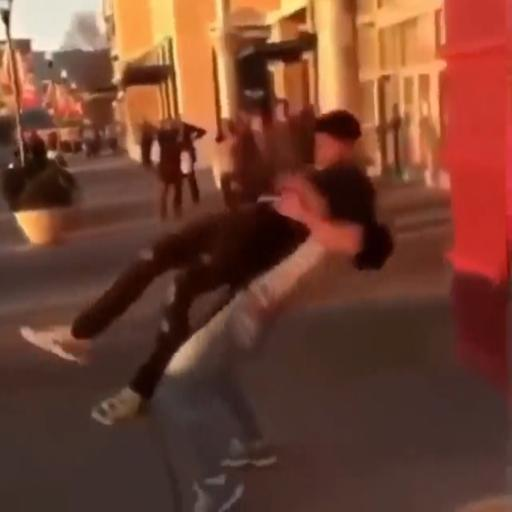violencia: (8, 89, 401, 512)
